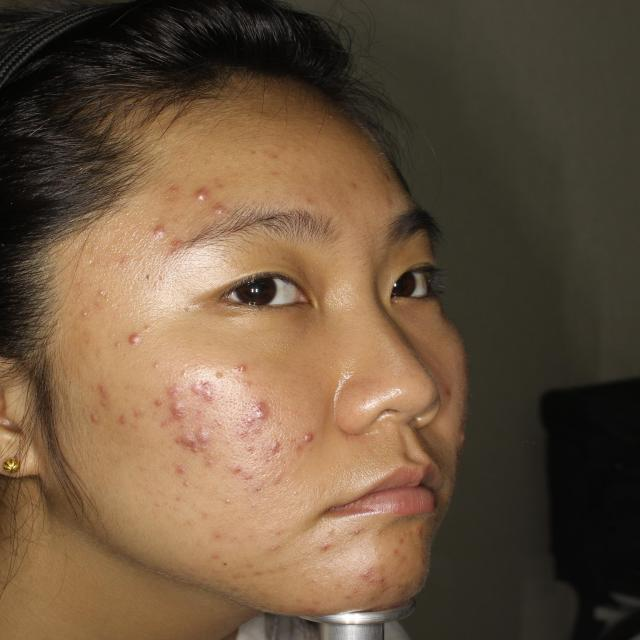acne: (223, 458, 258, 486), (234, 359, 267, 387), (77, 404, 106, 432), (166, 451, 193, 476), (134, 392, 161, 416), (316, 533, 336, 564), (188, 381, 215, 403), (106, 404, 129, 428), (161, 229, 186, 251), (194, 424, 226, 441), (355, 557, 382, 577), (158, 380, 180, 403), (237, 413, 262, 433), (87, 382, 115, 399), (289, 430, 312, 450), (243, 397, 270, 414), (114, 327, 142, 343), (406, 521, 428, 541), (381, 193, 406, 210), (172, 425, 193, 445), (148, 222, 174, 238), (267, 433, 286, 453), (168, 398, 190, 414), (190, 187, 212, 201), (212, 204, 232, 215)
